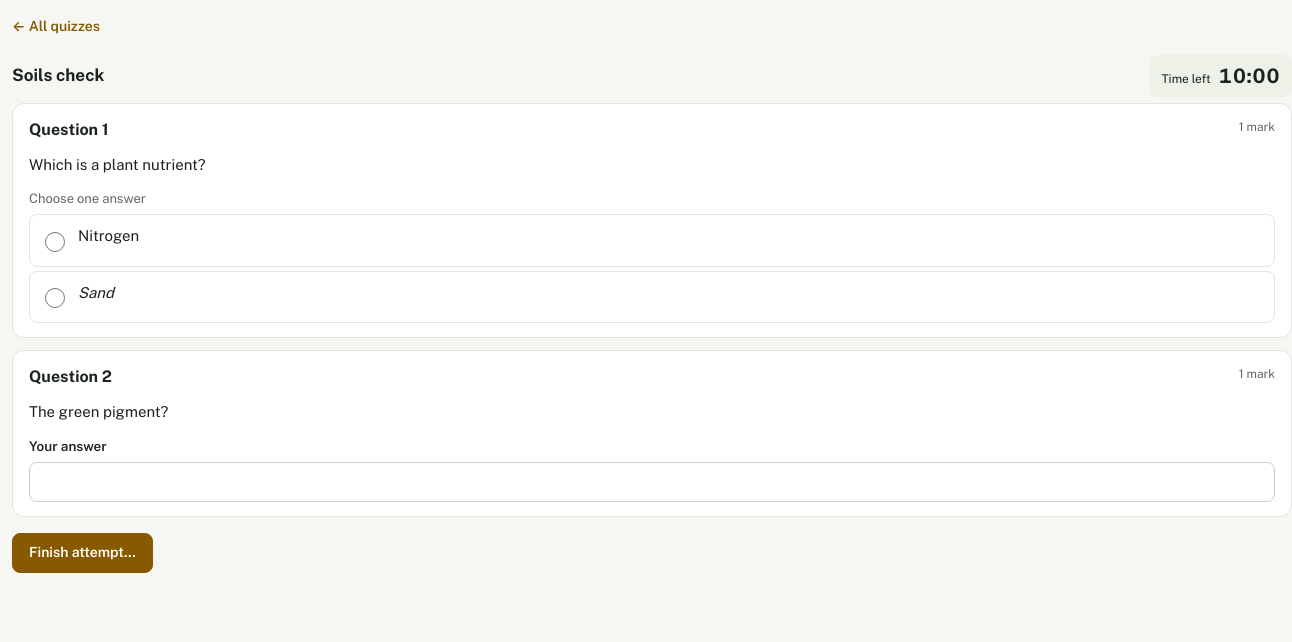
Scenario: answering an attempt (items 3.03 and 4.02) › keeps an answer on the device without a connection, then shows it sent
The image size is (1292, 642).
Click the radio button labelled "Nitrogen".
click(55, 242)  # box [45,232,65,252]
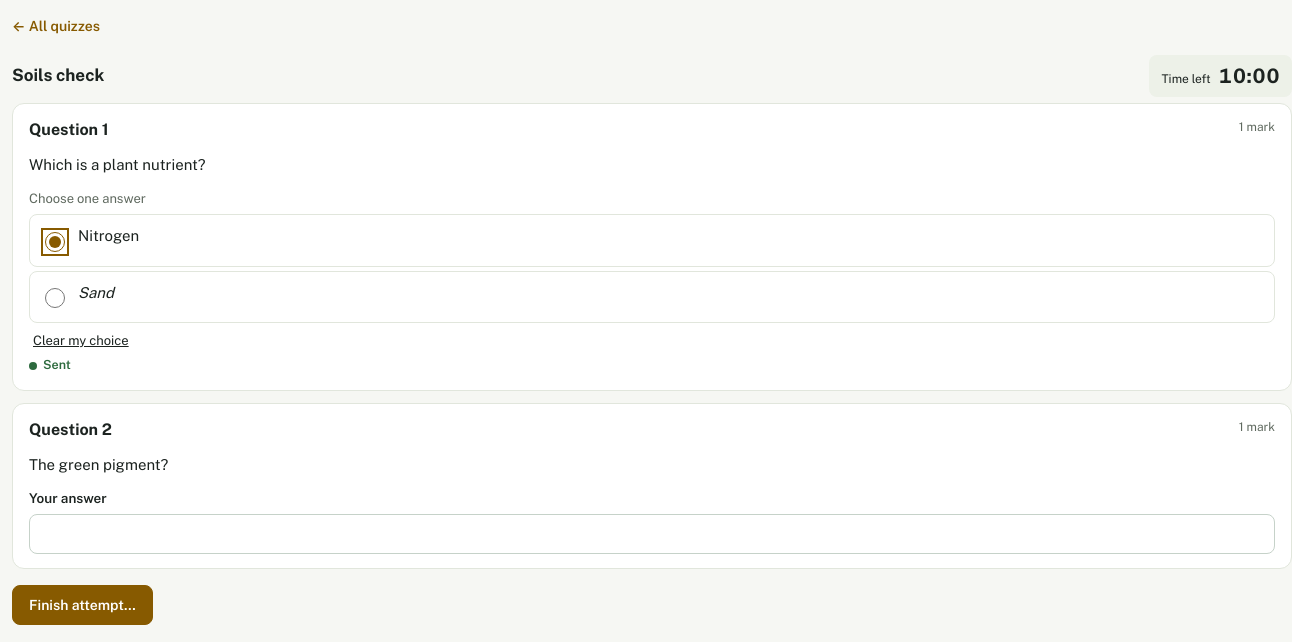
Now the text "Sent" is shown, box [29,356,71,375]
